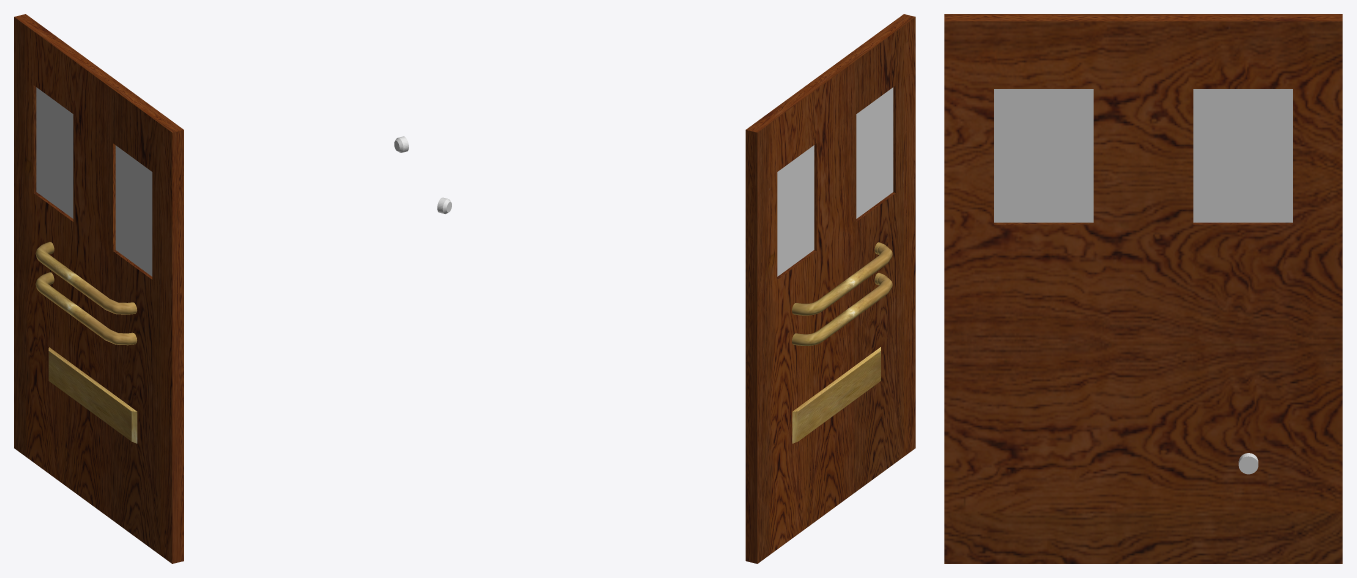
Rendered from Bookstore_door.fbx.
The picture shows the model from 3 angles, left to right: view 1: azimuth 30°, elevation 25°; view 2: azimuth 150°, elevation 25°; view 3: azimuth 270°, elevation 25°; orthographic projection. The views are drawn at different scales.
Visible parts, largest first — view 1: Cube, Cube.002, Cube.001, Cube.003, NurbsPath, NurbsPath.001; view 2: Cube, Cube.002, Cube.001, Cube.003, NurbsPath, NurbsPath.001; view 3: Cube, Cube.001, Cube.002.
Part boxes in pixels (left/top/right/bottom): Cube: left=14, top=14, right=183, bottom=563; Cube.002: left=115, top=145, right=152, bottom=276; Cube.001: left=36, top=87, right=73, bottom=218; Cube.003: left=48, top=347, right=137, bottom=443; NurbsPath: left=35, top=242, right=136, bottom=314; NurbsPath.001: left=35, top=272, right=136, bottom=345; Cube: left=745, top=14, right=915, bottom=563; Cube.002: left=856, top=87, right=893, bottom=218; Cube.001: left=777, top=145, right=814, bottom=276; Cube.003: left=792, top=347, right=880, bottom=443; NurbsPath: left=792, top=242, right=892, bottom=315; NurbsPath.001: left=792, top=273, right=892, bottom=345; Cube: left=944, top=14, right=1342, bottom=563; Cube.001: left=1193, top=89, right=1292, bottom=222; Cube.002: left=994, top=89, right=1093, bottom=222.
Bounding box in the file's own units: 364 × 400 × 266.
Materials: 2 (2 with a texture image).
